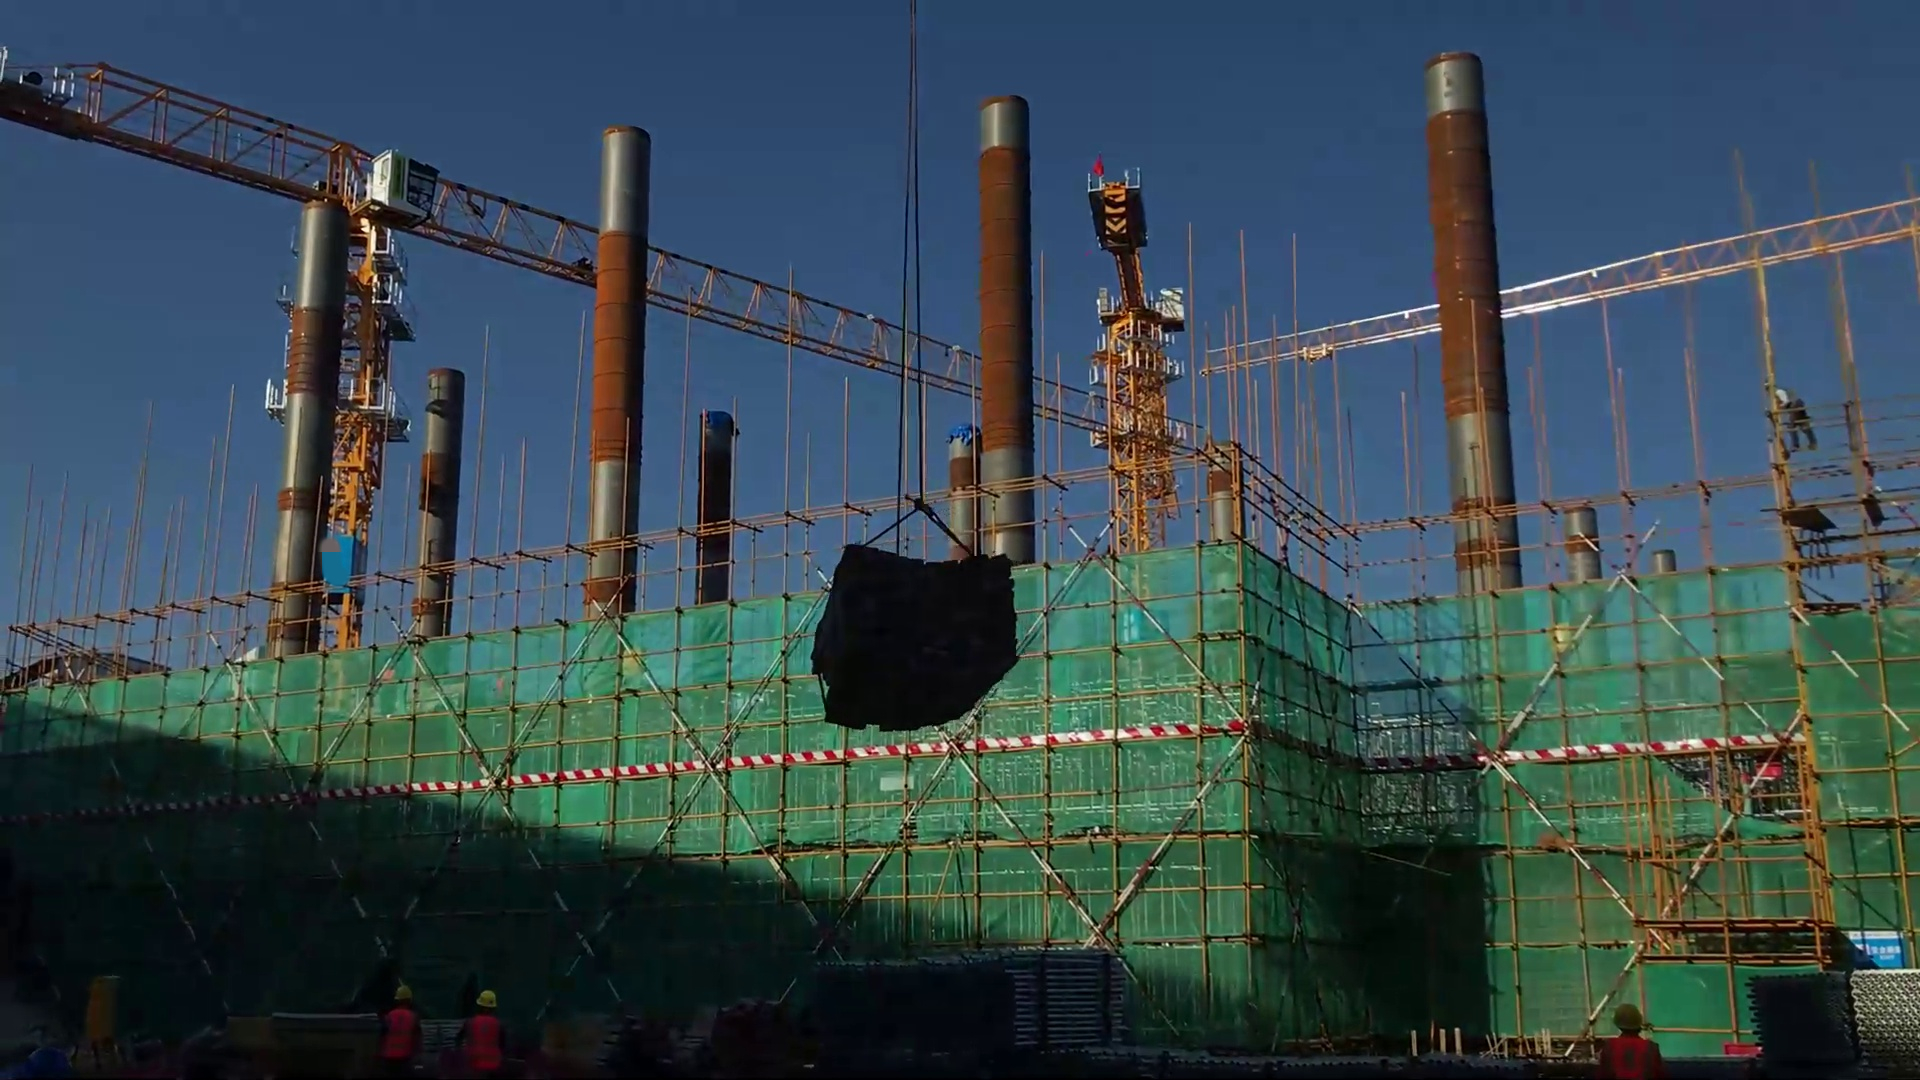helmet: (388, 981, 417, 1013), (1610, 1007, 1640, 1032), (473, 990, 499, 1016), (1775, 388, 1789, 405)
person: (363, 967, 452, 1080), (459, 975, 522, 1080), (1595, 1000, 1666, 1080), (1762, 375, 1823, 461)
scaffold: (810, 938, 1000, 1079), (985, 937, 1128, 1056)
vest: (1603, 1037, 1663, 1080), (376, 1016, 425, 1068), (467, 1023, 501, 1068)
wood: (816, 538, 1017, 733)
